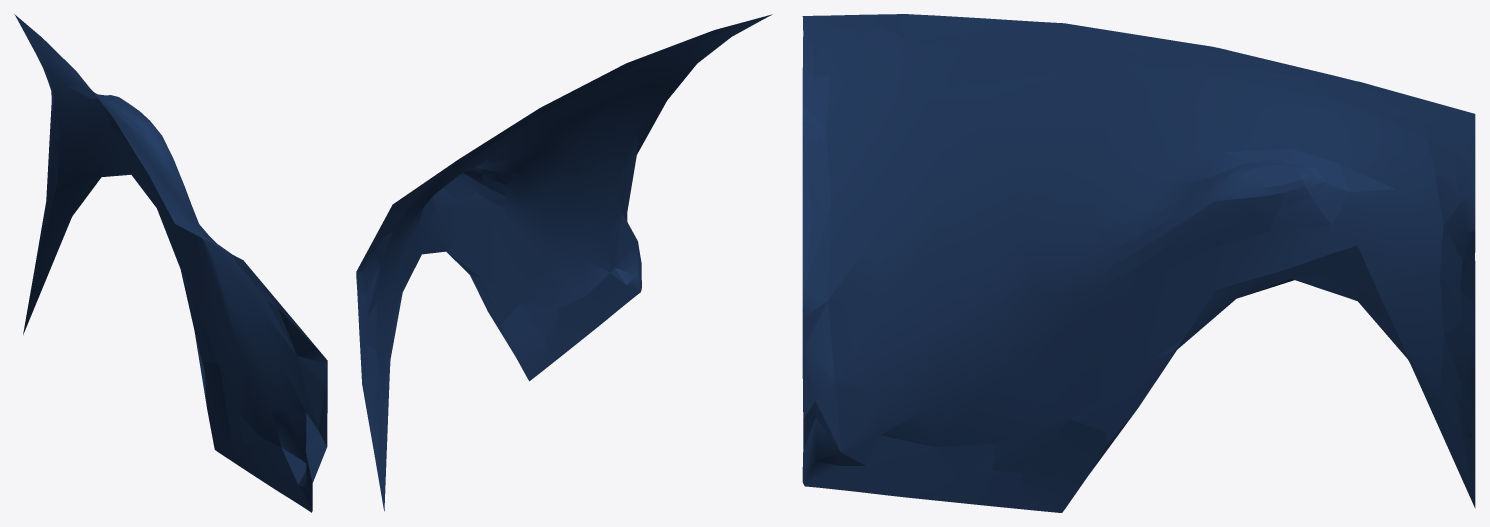
The model's file is quarter_rear_left.glb.
3 views of the same model, side by side, from view 1: azimuth 30°, elevation 25°; view 2: azimuth 150°, elevation 25°; view 3: azimuth 270°, elevation 25° (orthographic). The views are drawn at different scales.
Parts seen in each view (by area): view 1: GEO_Quarter_Rear_Left; view 2: GEO_Quarter_Rear_Left; view 3: GEO_Quarter_Rear_Left.
Part boxes in pixels (box(x1,y1,x2,y2)): GEO_Quarter_Rear_Left: box(14, 14, 327, 512); GEO_Quarter_Rear_Left: box(356, 14, 772, 511); GEO_Quarter_Rear_Left: box(802, 14, 1475, 512).
Bounding box in the file's own units: 0.3895 × 0.8191 × 1.14.
